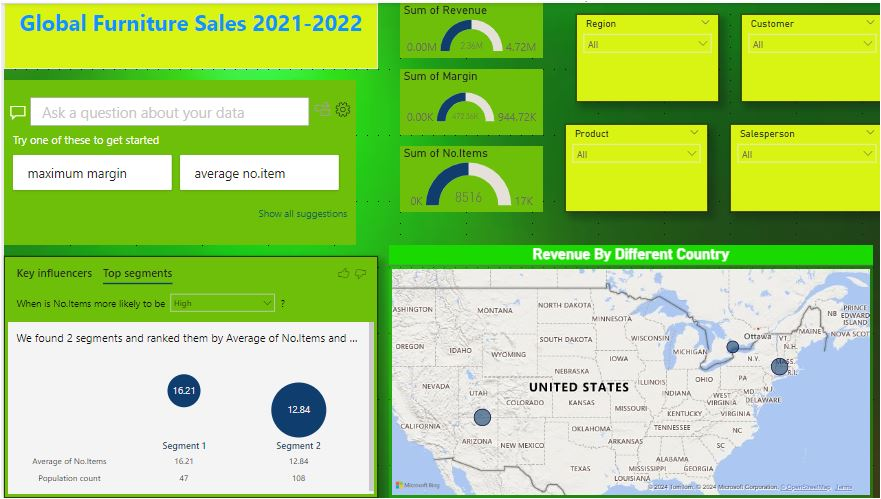

This screenshot's page, from the dashboard's own definition file:
{"tool":"powerbi","page":{"name":"Page 2","canvas":[1280,720],"ordinal":1},"visuals":[{"type":"qnaVisual","box":[0,112,512,240],"z":0},{"type":"keyDriversVisual","fields":{"Target":["Raw_Data.No.Items"],"ExplainBy":["Sum(Raw_Data.Revenue)"]},"box":[0,368,544,352],"z":1000},{"type":"map","title":"Revenue By Different Country","fields":{"Category":["Raw_Data.Region"],"Size":["Sum(Raw_Data.Revenue)"]},"box":[560,352,704,368],"z":2000},{"type":"slicer","fields":{"Values":["Raw_Data.Region"]},"box":[832,16,208,128],"z":3000},{"type":"slicer","fields":{"Values":["Raw_Data.Customer"]},"box":[1072,16,208,128],"z":4000},{"type":"slicer","fields":{"Values":["Raw_Data.Product"]},"box":[816,176,208,128],"z":5000},{"type":"slicer","fields":{"Values":["Raw_Data.Salesperson"]},"box":[1056,176,224,128],"z":6000},{"type":"textbox","box":[0,0,544,96],"z":7000},{"type":"gauge","fields":{"Y":["Sum(Raw_Data.Revenue)"]},"box":[576,0,208,80],"z":8000},{"type":"gauge","fields":{"Y":["Sum(Raw_Data.Margin)"]},"box":[576,96,208,96],"z":9000},{"type":"gauge","fields":{"Y":["Sum(Raw_Data.No.Items)"]},"box":[576,208,208,96],"z":10000}]}

Visuals, with their boxes in screenshot pixels (x1, y1, x2, y2), scaled from the page's 1280x720 canvas onto the 881x499 screenshot:
qnaVisual: 0,78,352,244
keyDriversVisual - Raw_Data.No.Items x Sum(Raw_Data.Revenue): 0,255,374,498
"Revenue By Different Country" map: 385,244,870,498
slicer - Raw_Data.Region: 573,11,716,100
slicer - Raw_Data.Customer: 738,11,880,100
slicer - Raw_Data.Product: 562,122,705,211
slicer - Raw_Data.Salesperson: 727,122,880,211
textbox: 0,0,374,67
gauge - Sum(Raw_Data.Revenue): 396,0,540,55
gauge - Sum(Raw_Data.Margin): 396,67,540,133
gauge - Sum(Raw_Data.No.Items): 396,144,540,211
